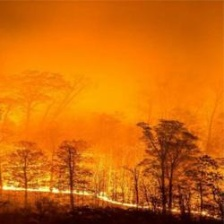fire: (1, 169, 224, 222)
